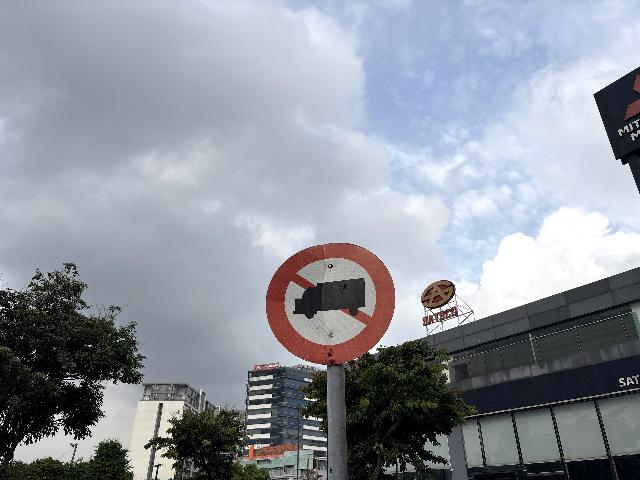cam-xe-tai: (266, 243, 396, 365)
